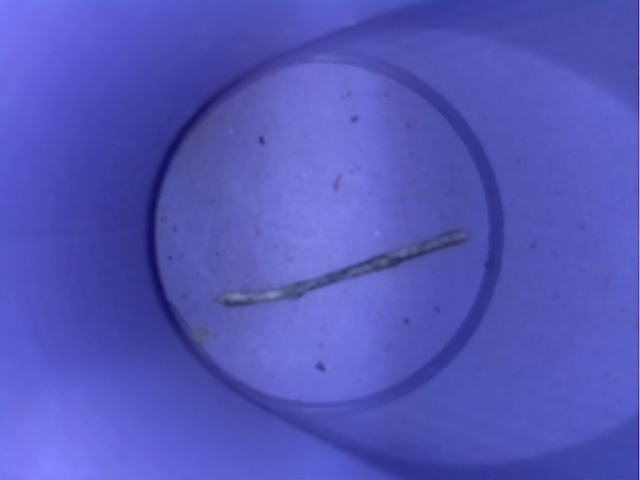croquette: (196, 208, 474, 324)
